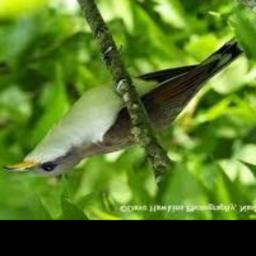Cuckoo: (3, 18, 256, 176)
